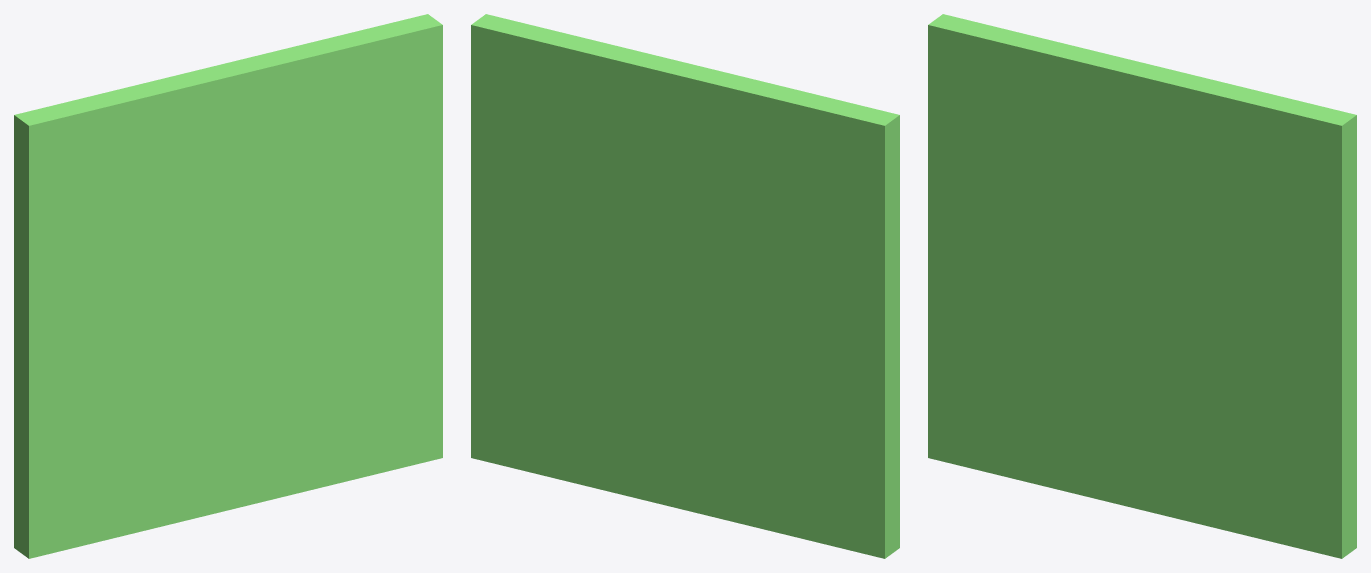
3 views of the same model, side by side, from view 1: azimuth 30°, elevation 25°; view 2: azimuth 150°, elevation 25°; view 3: azimuth 330°, elevation 25° (orthographic).
Bounding box in the file's own units: 16 × 16 × 1.
